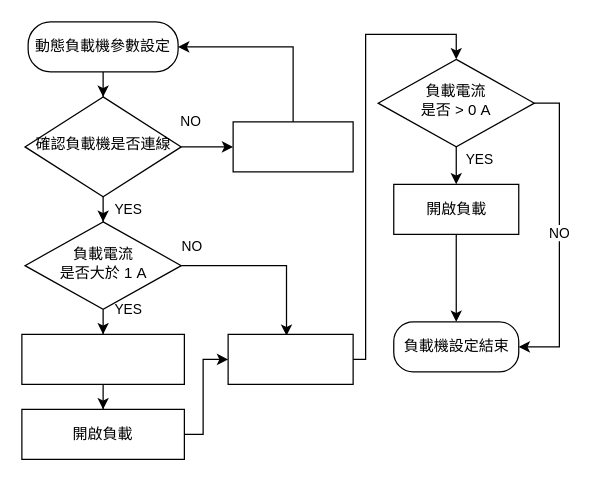
Some shapes in this 591 by 481 pixel diagram are drawn without their labels. Here are the shapes that lost their labels. From the top down, the centre of each, then its label:
At point 292,146: "開啟負載機 (RS232裝置)".
At point 102,358: "設定目標負載電流-1A預防產品OCP功能啟動".
At point 290,358: "設定目標負載電流".
